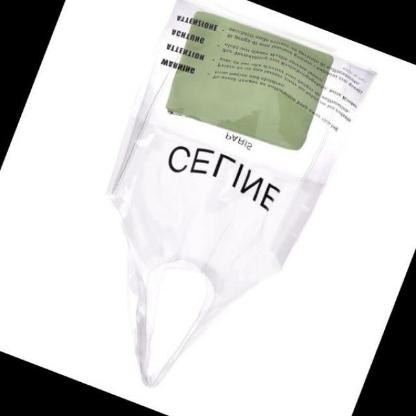Plastic Bag: (105, 0, 384, 390)
